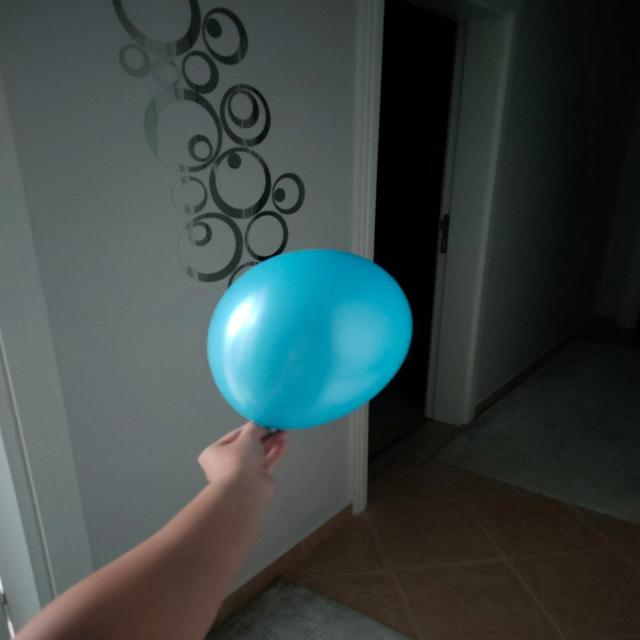blue: (208, 250, 414, 431)
